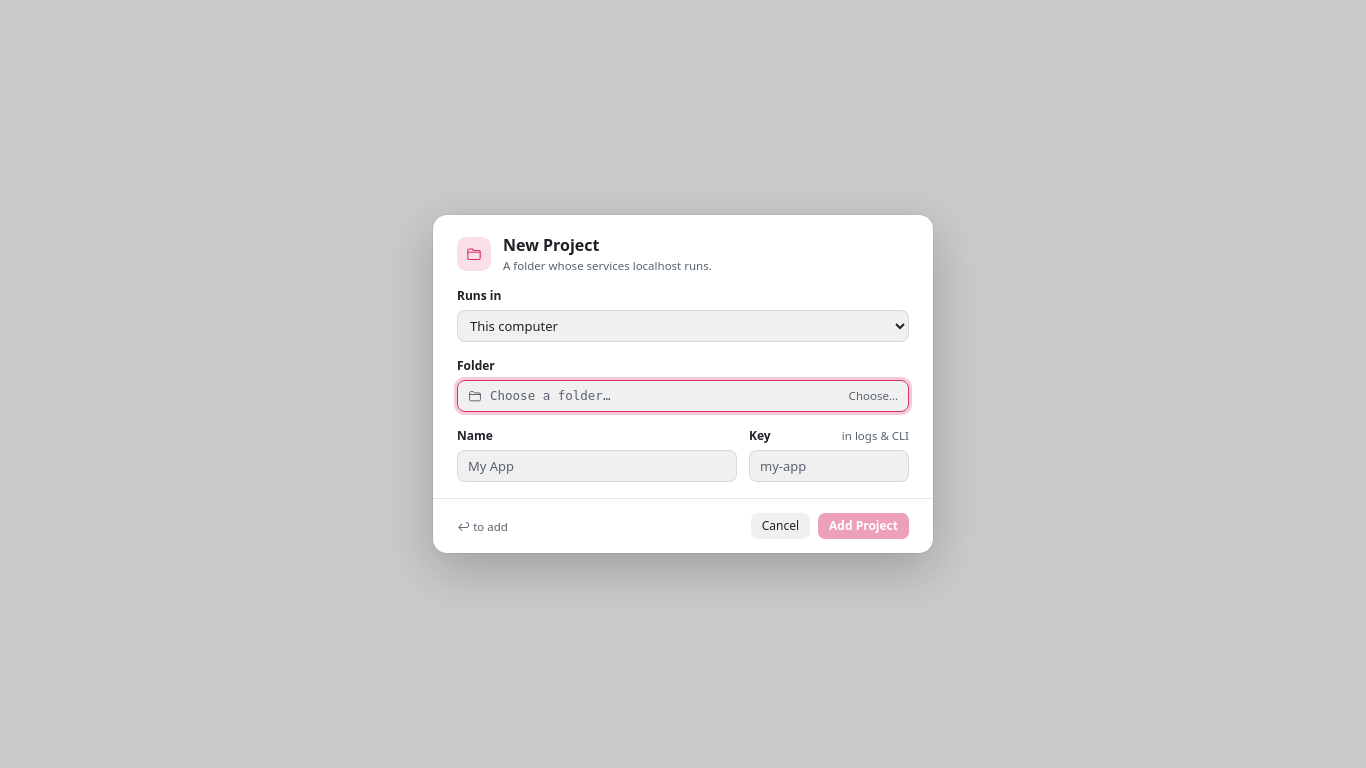
Sheets › adds a Project on this computer, or where its folder is
This screenshot has width=1366, height=768.
Picked inside a distro's folders: the Project runs there.
Click the button "Choose a folder… Choose…" at (550, 395), box 457,380 -> 909,412
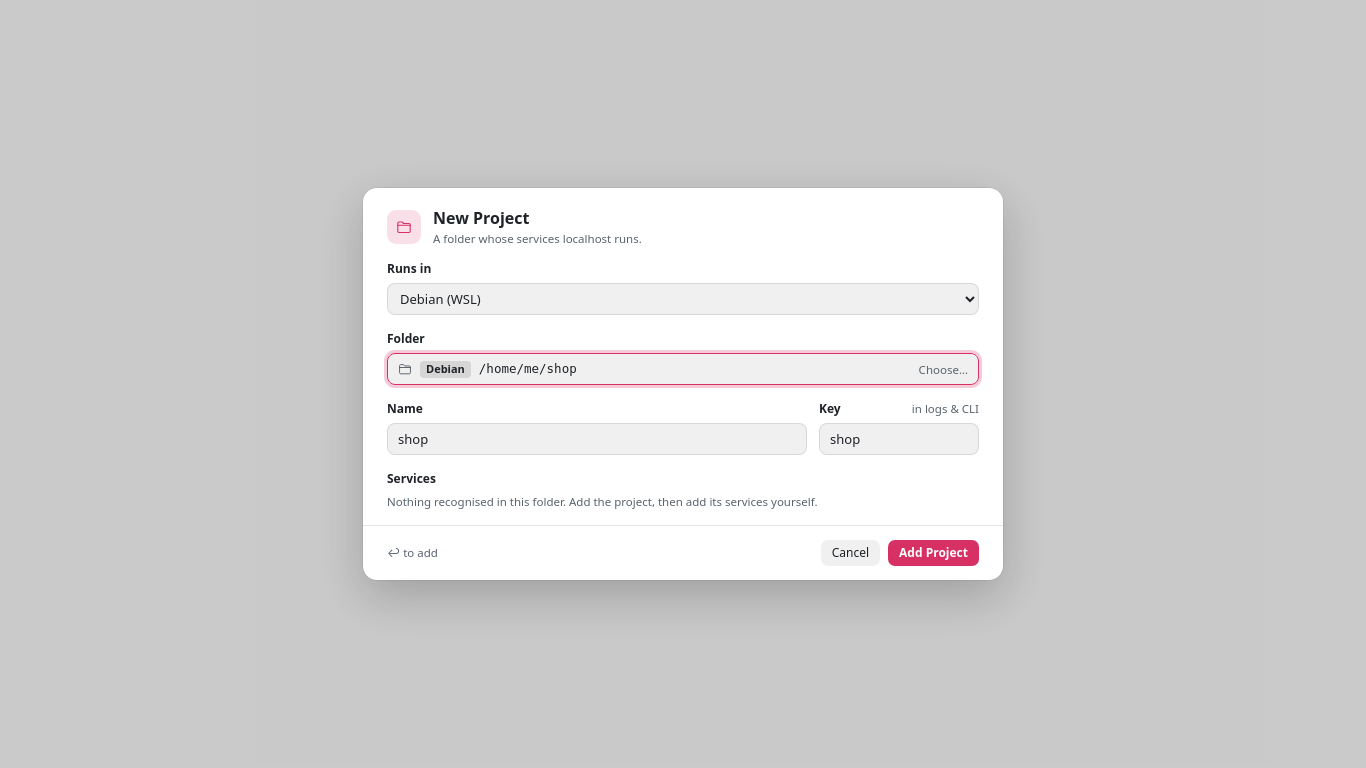
Click the button "Add Project" at (934, 553), box 888,540 -> 979,566
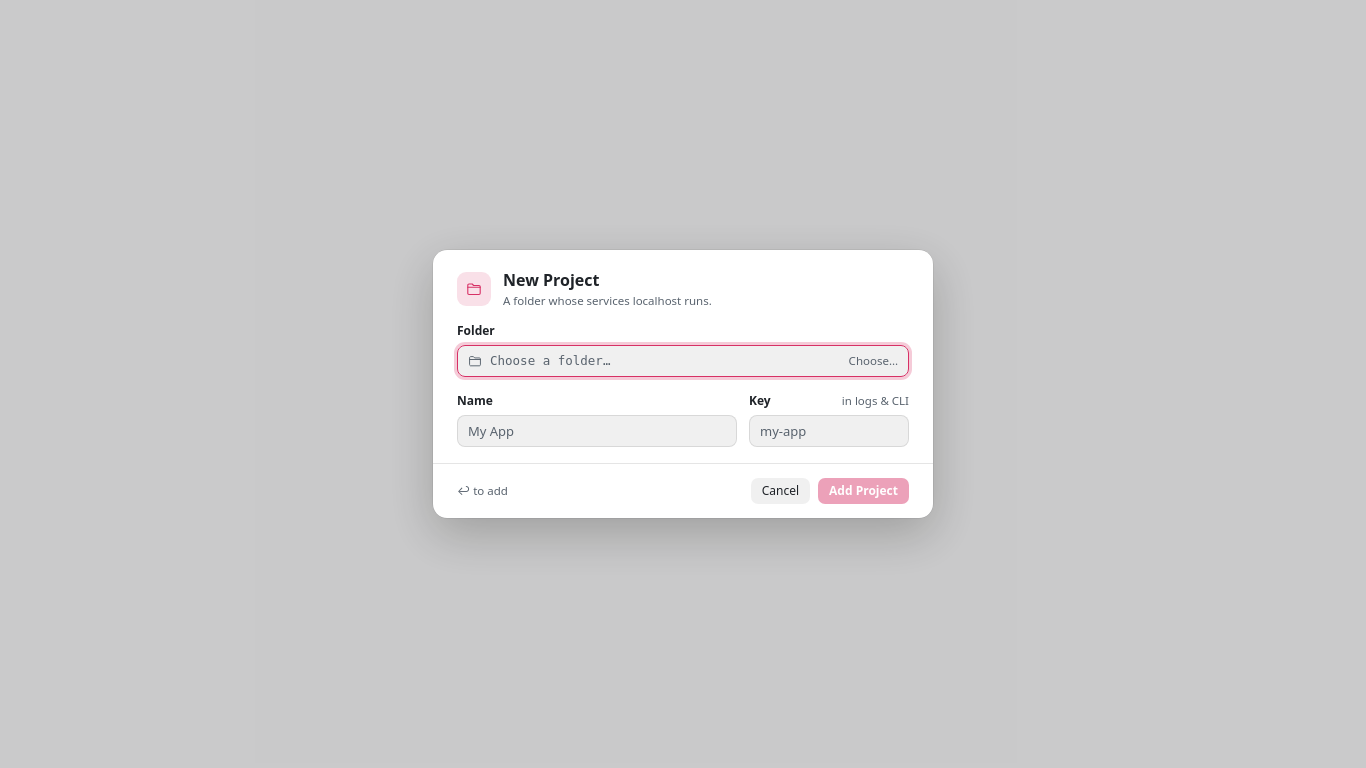
Another target: the folder is chosen again.
Click the button "Choose a folder… Choose…" at (550, 360), box 457,345 -> 909,377
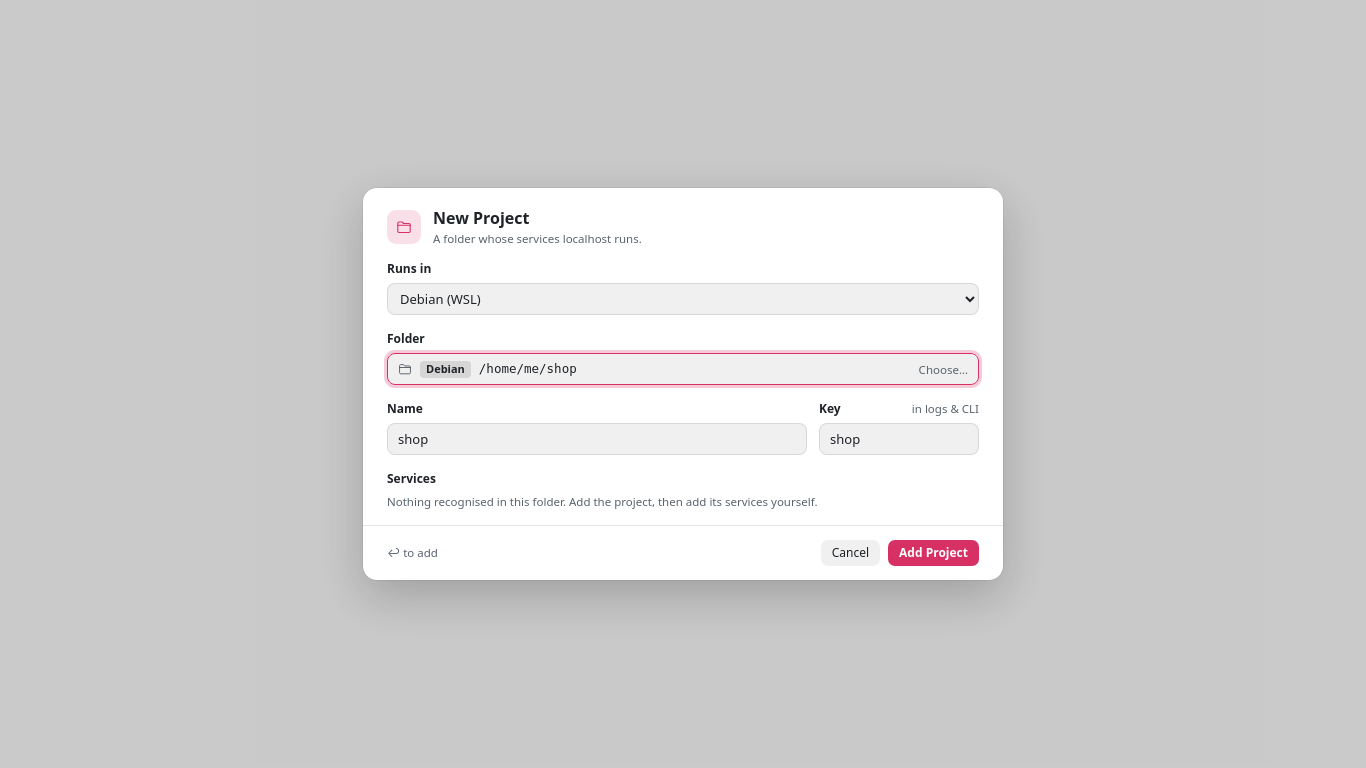
Select "Ubuntu (WSL)" in the dropdown labelled "Runs in" at (683, 299), box 387,283 -> 979,315
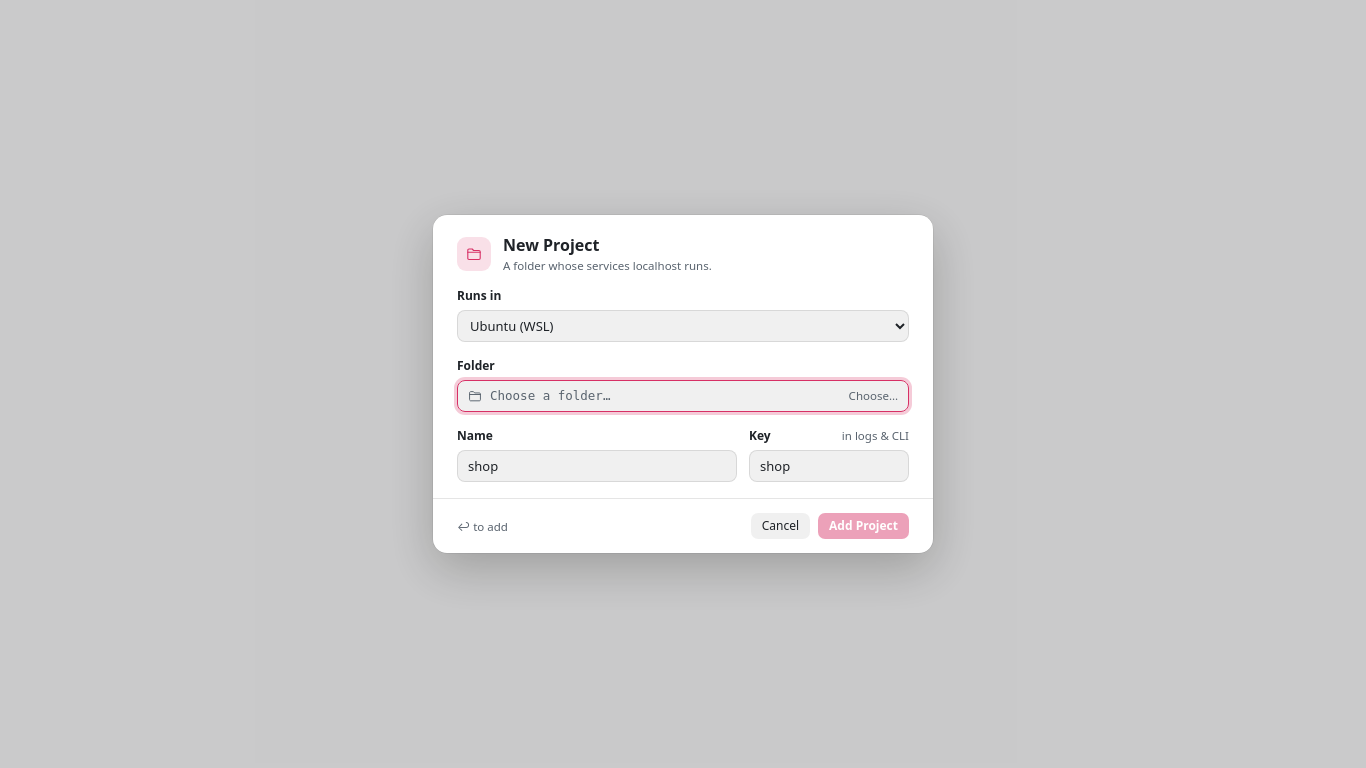
Check: the button "Choose a folder… Choose…" is shown, box 457,380 -> 909,412
